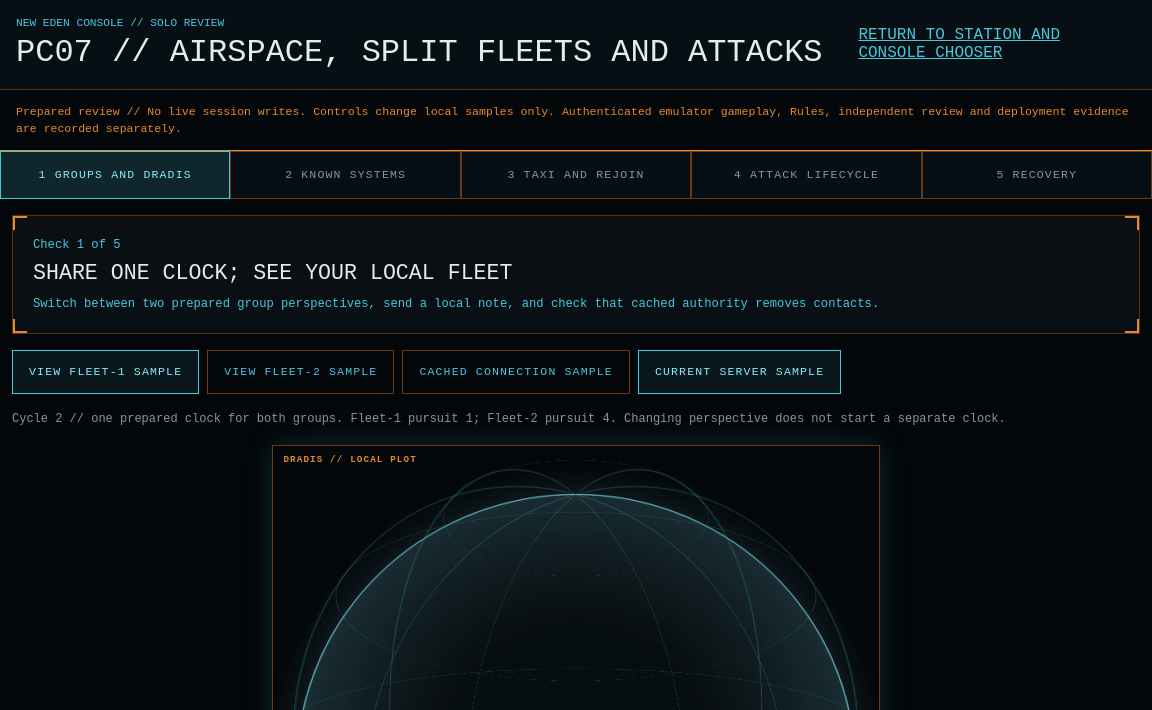
Test: renders committed safe attack results and offers genuine use, pass and recovery samples
Click the button "4 Attack lifecycle" at [806, 175], box [691, 151, 922, 199]
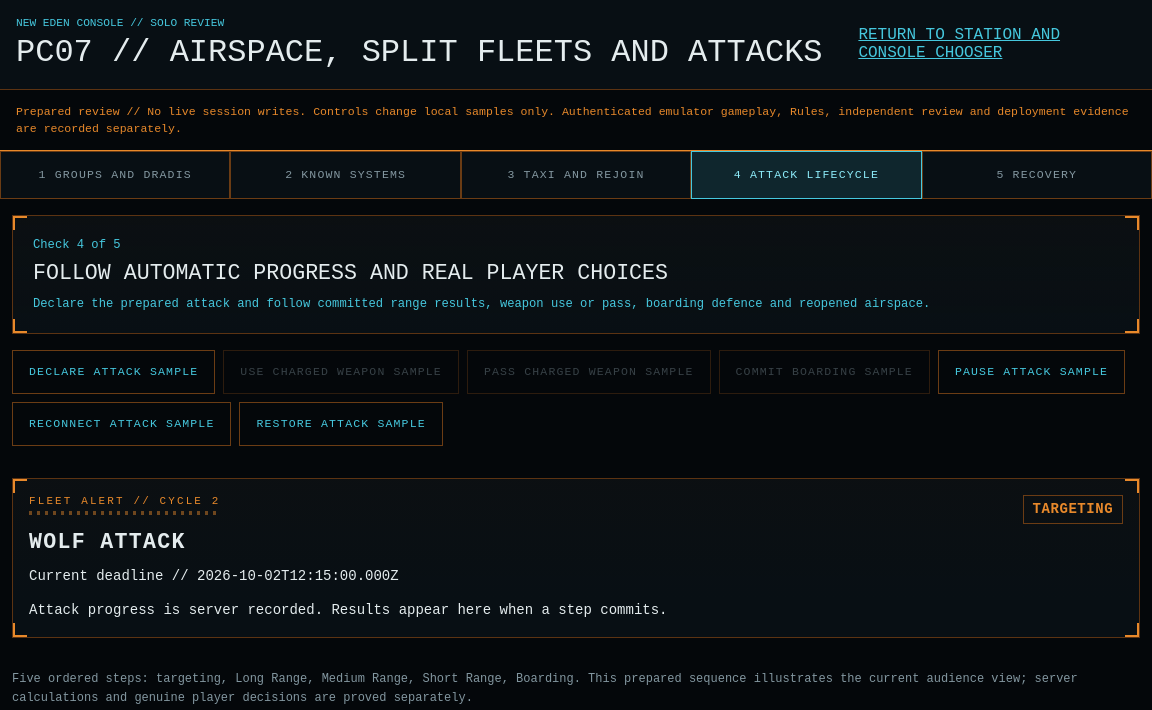
Click the button "Declare attack sample" at [114, 372], box [12, 350, 215, 394]
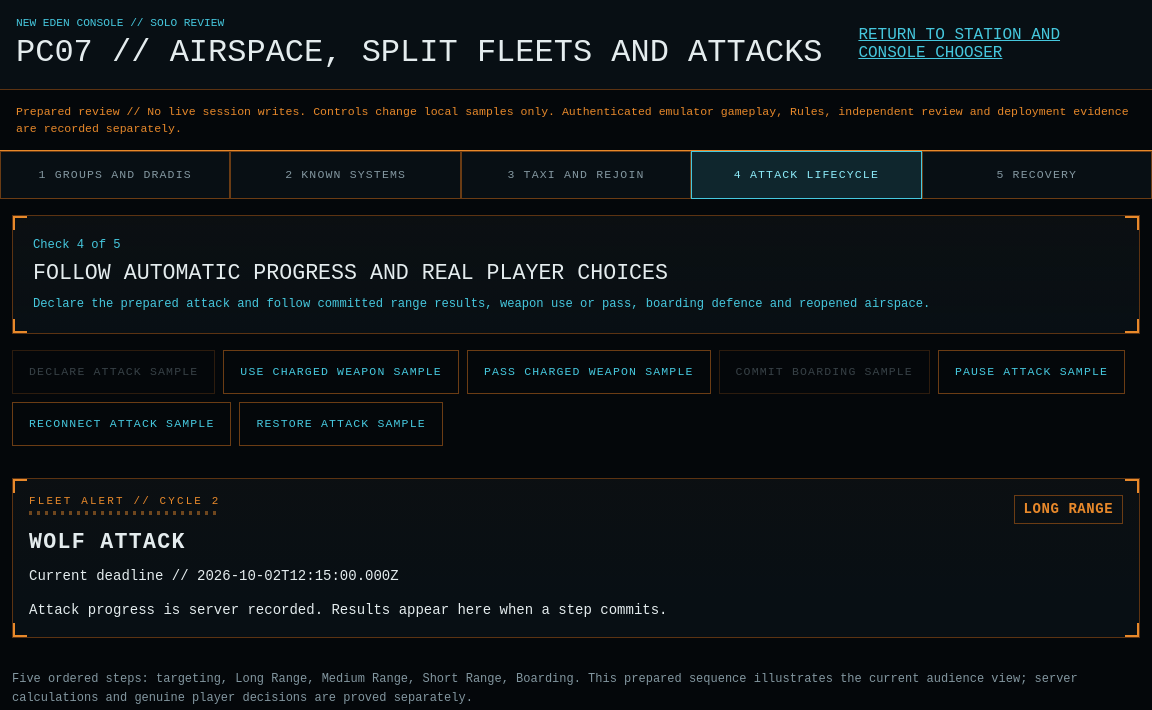
Check: the element named "Wolf attack status" shows "Long Range", box [1024, 501, 1113, 517]
Click the button "Pause attack sample" at [1032, 372], box [938, 350, 1125, 394]
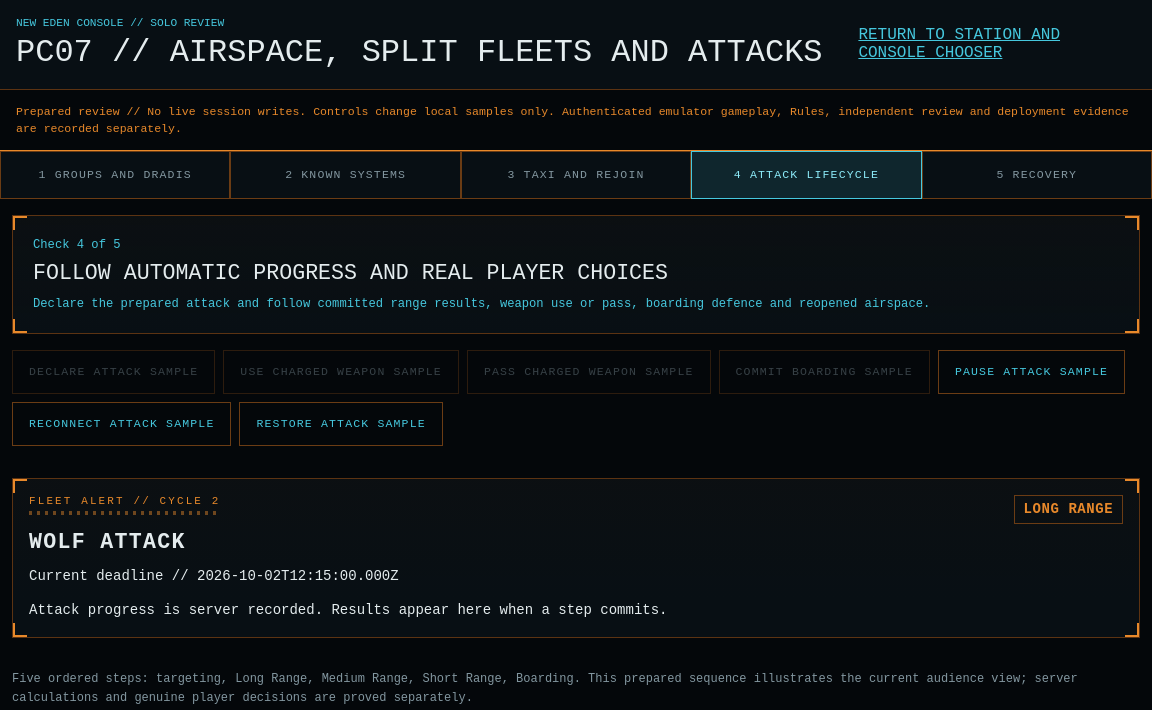
Check: the button "Pass charged weapon sample" is disabled, box [467, 350, 710, 394]
Click the button "Reconnect attack sample" at [122, 424], box [12, 402, 231, 446]
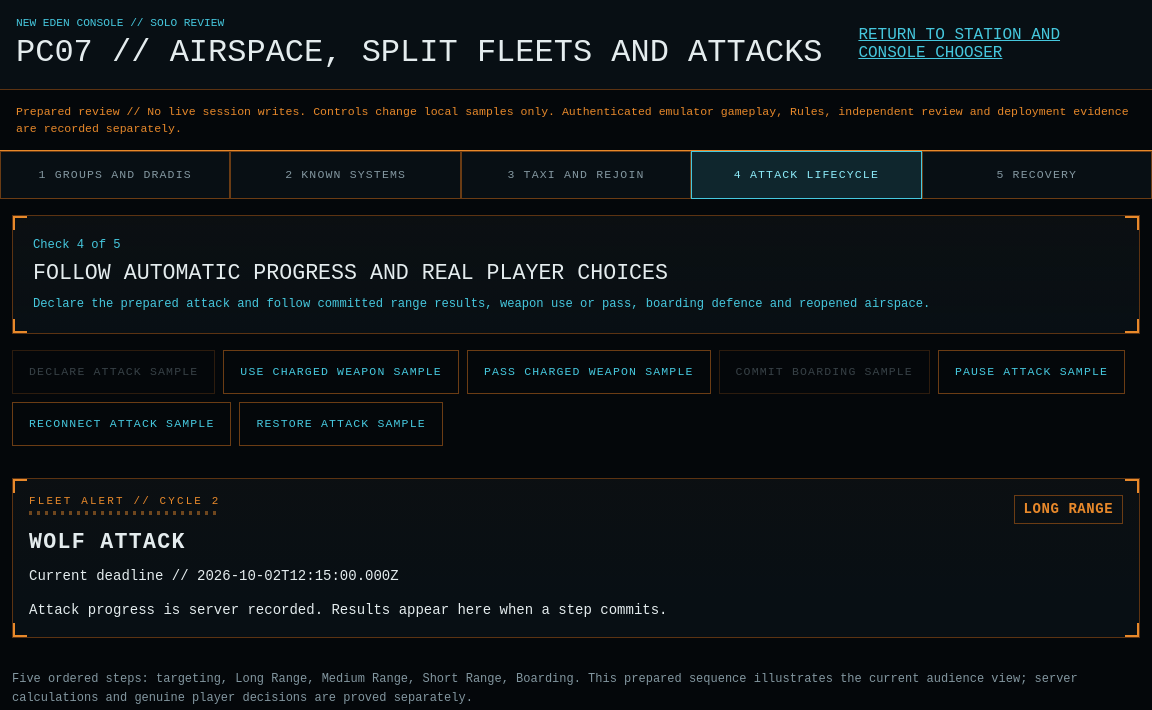
Click the button "Pass charged weapon sample" at [589, 372], box [467, 350, 710, 394]
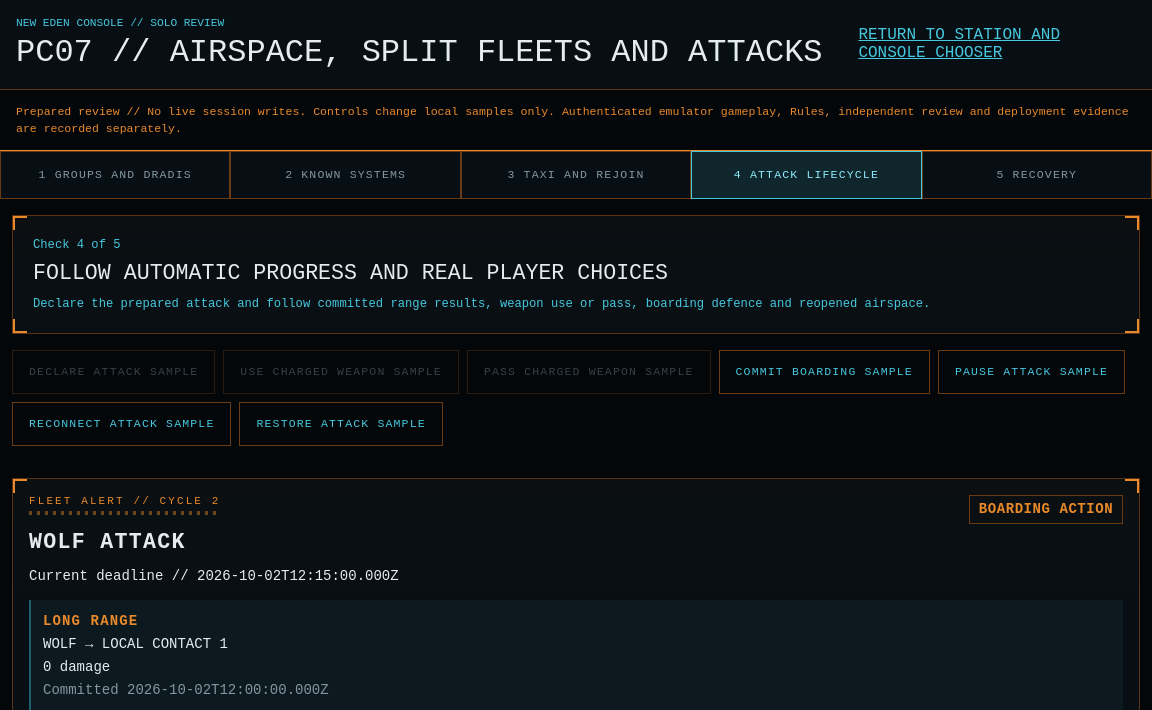
Click the button "Commit boarding sample" at [824, 372], box [718, 350, 930, 394]
(page scrolled)
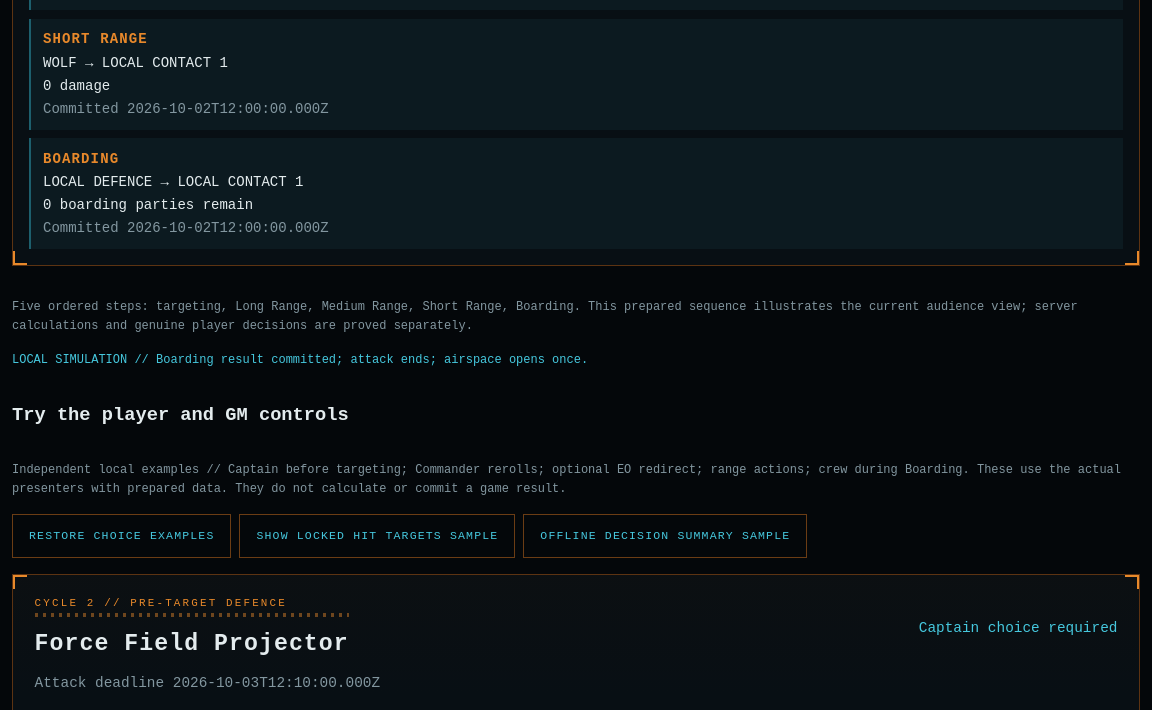
Check: the message named "Attack sample result" shows "airspace opens", box [12, 353, 588, 367]
